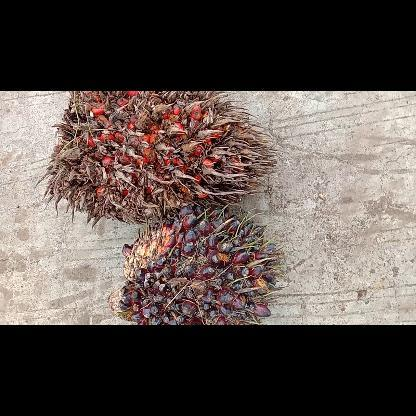TBS mentah: (108, 204, 286, 324)
Terlalu masak: (36, 90, 278, 226)
